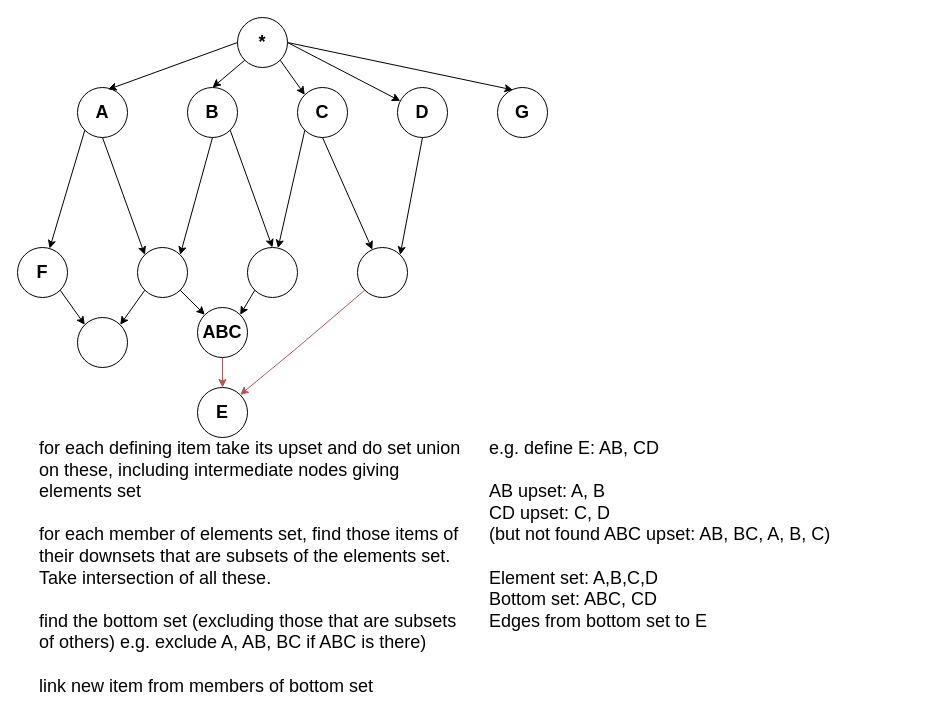
Image size: 935x715. Some labels were removed from this diagram. Here are the shapes that lost their labels. From the top down, the centre of each, then its label:
(x=162, y=272): AB
(x=272, y=272): BC
(x=382, y=272): CD
(x=102, y=342): ABF
